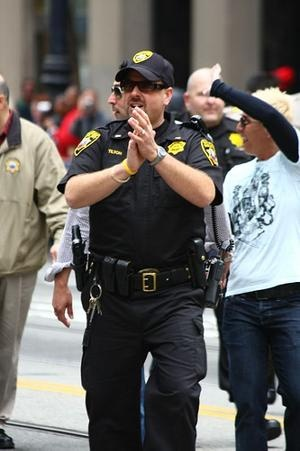person without safety: (58, 49, 225, 451)
